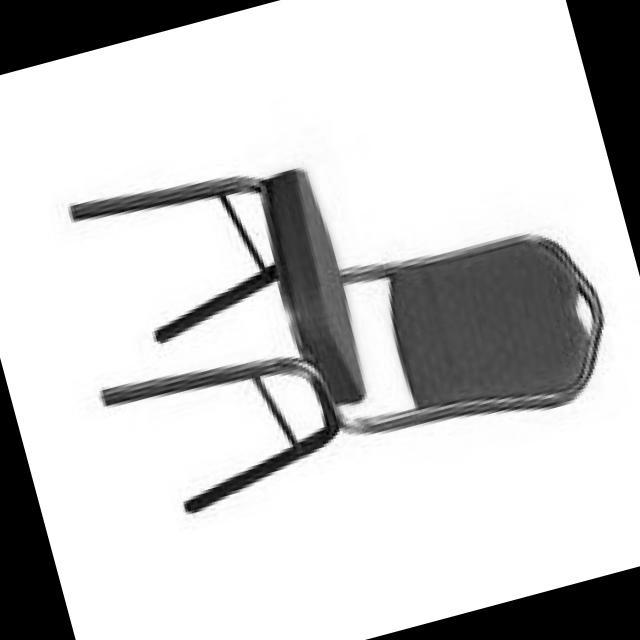chair: (44, 77, 626, 530)
